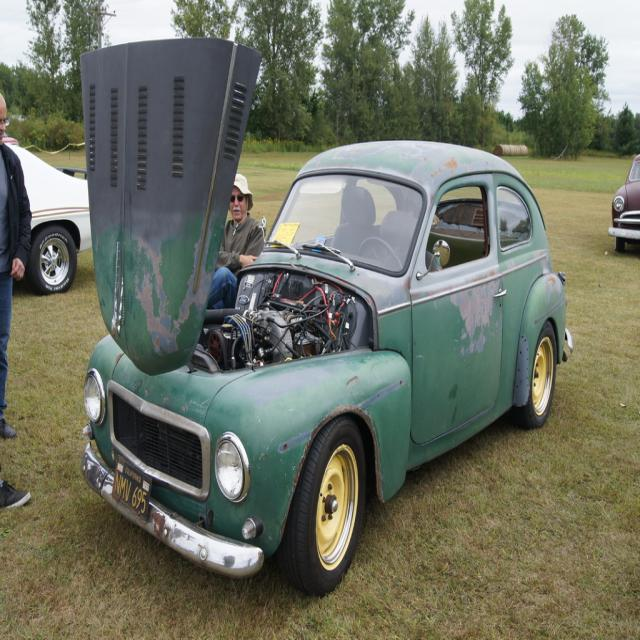car: (76, 142, 573, 599)
